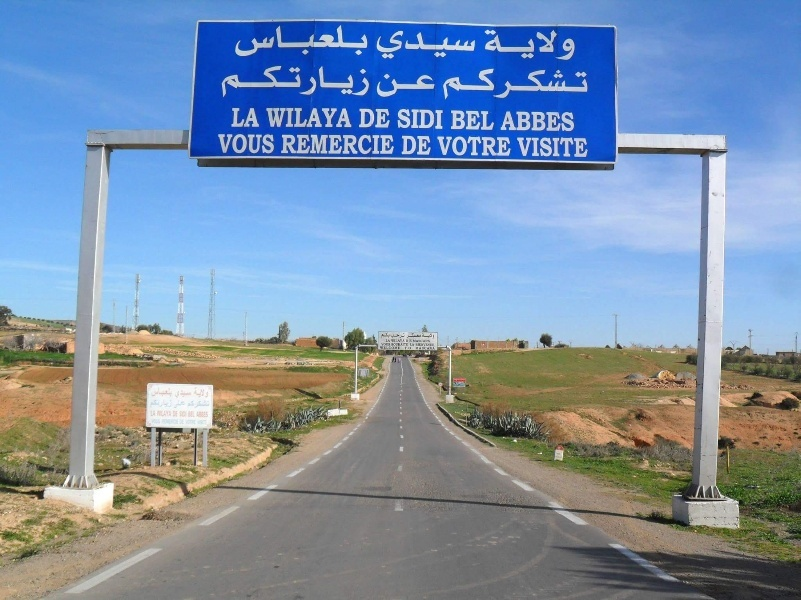text: (353, 24, 369, 58), (241, 24, 256, 58), (257, 24, 272, 58), (273, 24, 288, 58), (289, 24, 304, 58), (305, 24, 320, 58), (321, 24, 336, 58), (337, 24, 352, 58), (225, 65, 240, 99), (241, 65, 256, 99), (257, 65, 272, 99), (273, 65, 288, 99), (289, 65, 304, 99), (305, 65, 320, 99), (321, 65, 336, 99), (337, 65, 352, 99), (353, 65, 368, 99), (449, 69, 464, 101), (465, 69, 480, 101), (481, 69, 496, 101), (497, 69, 512, 101), (513, 69, 528, 101), (529, 69, 544, 101), (545, 69, 560, 101), (561, 69, 576, 101), (497, 30, 512, 60), (513, 30, 528, 60), (529, 30, 544, 60), (545, 30, 560, 60), (561, 30, 576, 60), (385, 31, 400, 60), (401, 31, 416, 60), (417, 31, 432, 60), (433, 31, 448, 60), (449, 31, 464, 60), (577, 69, 589, 101), (337, 107, 353, 129), (465, 31, 477, 60), (385, 74, 400, 97), (401, 74, 416, 97), (417, 74, 432, 97), (485, 30, 496, 60), (273, 107, 288, 129), (289, 107, 304, 129), (305, 107, 320, 129), (321, 107, 336, 129), (513, 110, 528, 132), (529, 110, 544, 132), (545, 110, 560, 132), (561, 110, 576, 132), (225, 133, 240, 155), (241, 133, 256, 155), (257, 133, 272, 155), (401, 109, 416, 130), (417, 109, 432, 130), (465, 110, 480, 131), (481, 110, 496, 131), (529, 137, 544, 158), (545, 137, 560, 158), (561, 137, 576, 158), (241, 108, 256, 128), (289, 135, 304, 155), (305, 135, 320, 155), (321, 135, 336, 155), (337, 135, 352, 155), (353, 135, 368, 155), (369, 135, 384, 155), (417, 136, 432, 156), (449, 136, 464, 156), (465, 136, 480, 156), (481, 136, 496, 156), (497, 136, 512, 156), (369, 109, 384, 128), (402, 136, 416, 156), (451, 110, 464, 131), (577, 137, 590, 158), (433, 109, 445, 130), (501, 110, 512, 132), (517, 137, 528, 158), (385, 135, 395, 155), (438, 136, 448, 156), (378, 31, 384, 60), (359, 109, 368, 128), (235, 24, 240, 58), (232, 108, 240, 128), (443, 69, 448, 101), (194, 387, 208, 398), (378, 74, 384, 97), (177, 390, 192, 399), (193, 401, 208, 410), (266, 107, 272, 129), (161, 387, 173, 398), (282, 135, 288, 155), (219, 133, 224, 155), (161, 400, 173, 409), (151, 387, 160, 398), (385, 109, 390, 128), (150, 400, 160, 409), (162, 419, 176, 425), (179, 419, 192, 425), (197, 420, 208, 427), (177, 400, 185, 409), (180, 411, 192, 417), (422, 332, 432, 339), (433, 74, 436, 97), (222, 65, 224, 99), (369, 65, 371, 99), (161, 411, 172, 417), (197, 412, 208, 418), (385, 346, 401, 350), (257, 108, 260, 128), (417, 343, 432, 347), (150, 411, 160, 417), (386, 339, 400, 343), (417, 339, 431, 343), (407, 333, 416, 339), (391, 333, 400, 339), (151, 419, 160, 425), (417, 347, 432, 350), (187, 401, 192, 410), (273, 133, 275, 155), (185, 420, 192, 426), (406, 339, 416, 343), (385, 333, 391, 339), (401, 343, 410, 347), (405, 347, 416, 350), (392, 339, 400, 343), (392, 343, 400, 347), (417, 333, 422, 339), (401, 333, 406, 339), (173, 400, 176, 409), (410, 343, 416, 347), (188, 411, 192, 417), (399, 109, 400, 130), (381, 333, 384, 339), (385, 343, 391, 346), (157, 411, 160, 417), (173, 411, 176, 417), (193, 411, 196, 417), (193, 420, 196, 426), (401, 339, 405, 343), (433, 332, 435, 339), (413, 339, 416, 343), (381, 346, 384, 350), (177, 419, 179, 425), (381, 343, 384, 346), (175, 390, 176, 399), (209, 401, 210, 410), (433, 343, 435, 347), (558, 446, 560, 450), (561, 446, 563, 450), (433, 347, 435, 350), (177, 411, 178, 417)
